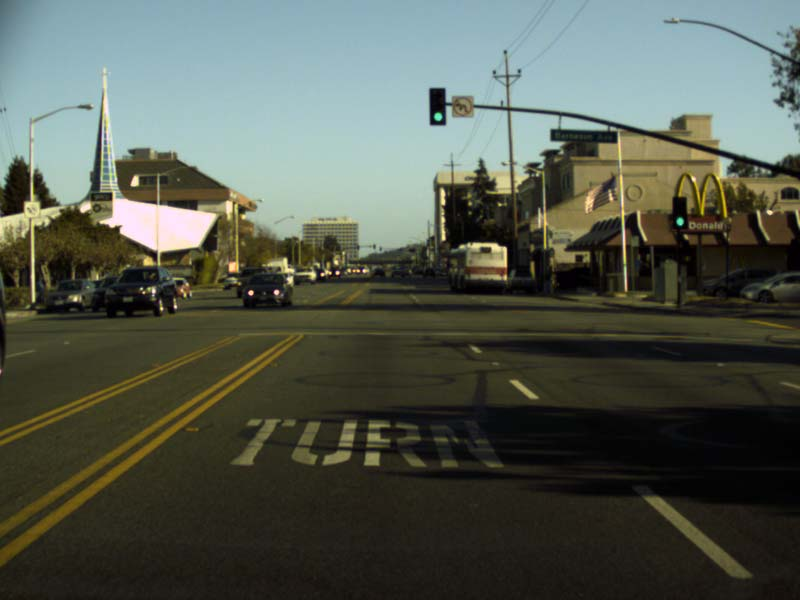Green: (428, 88, 446, 124), (672, 197, 687, 228)
